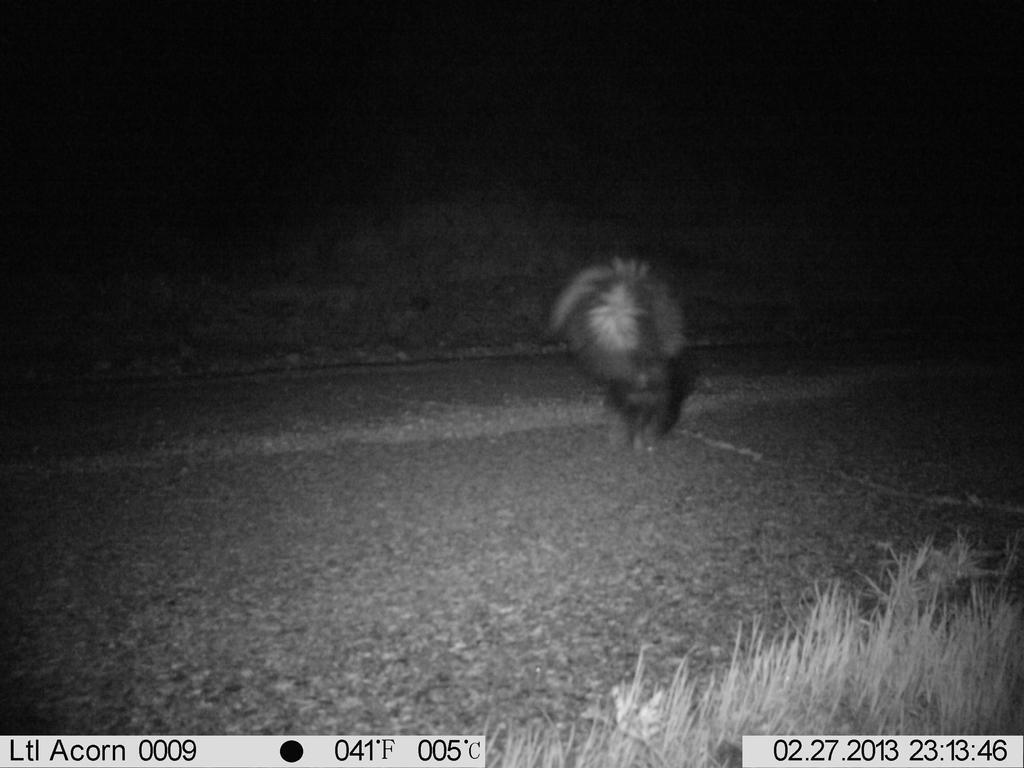skunk: (524, 249, 729, 464)
